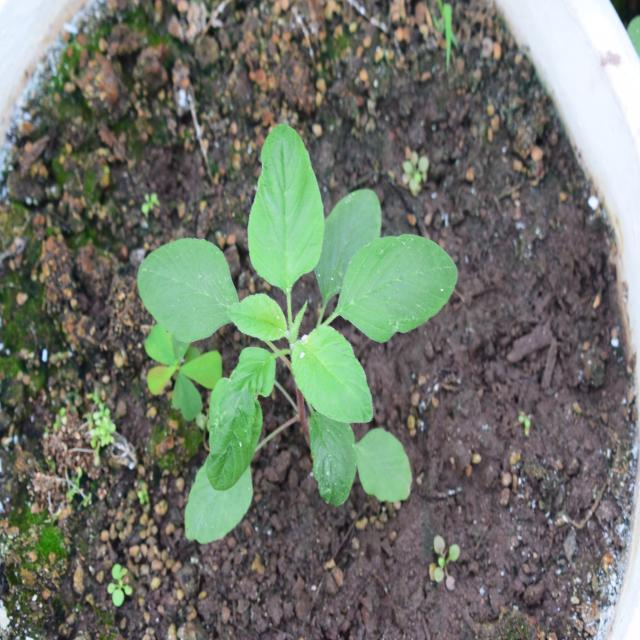pigweed: (152, 145, 443, 520)
